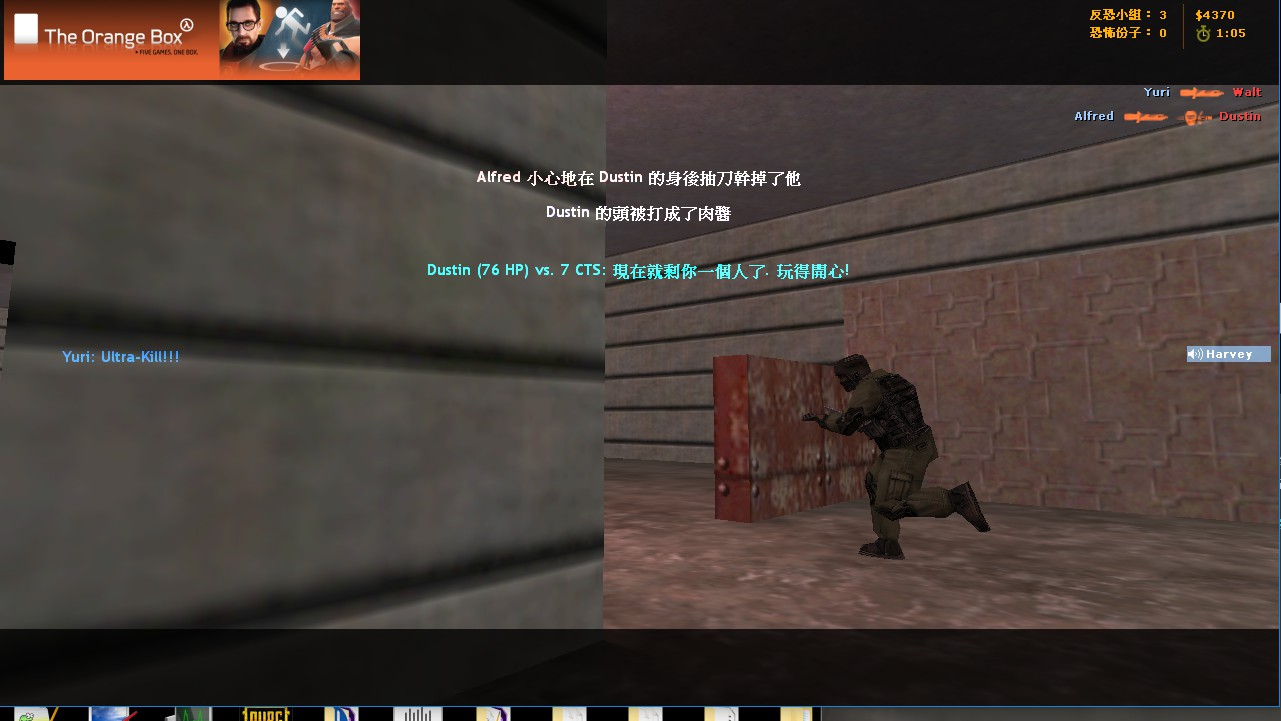person: (801, 347, 998, 569)
